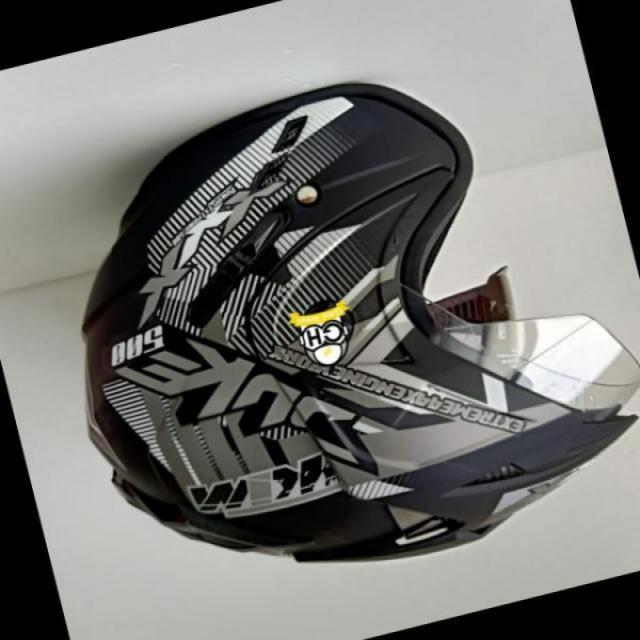Helmet: (80, 94, 625, 543)
